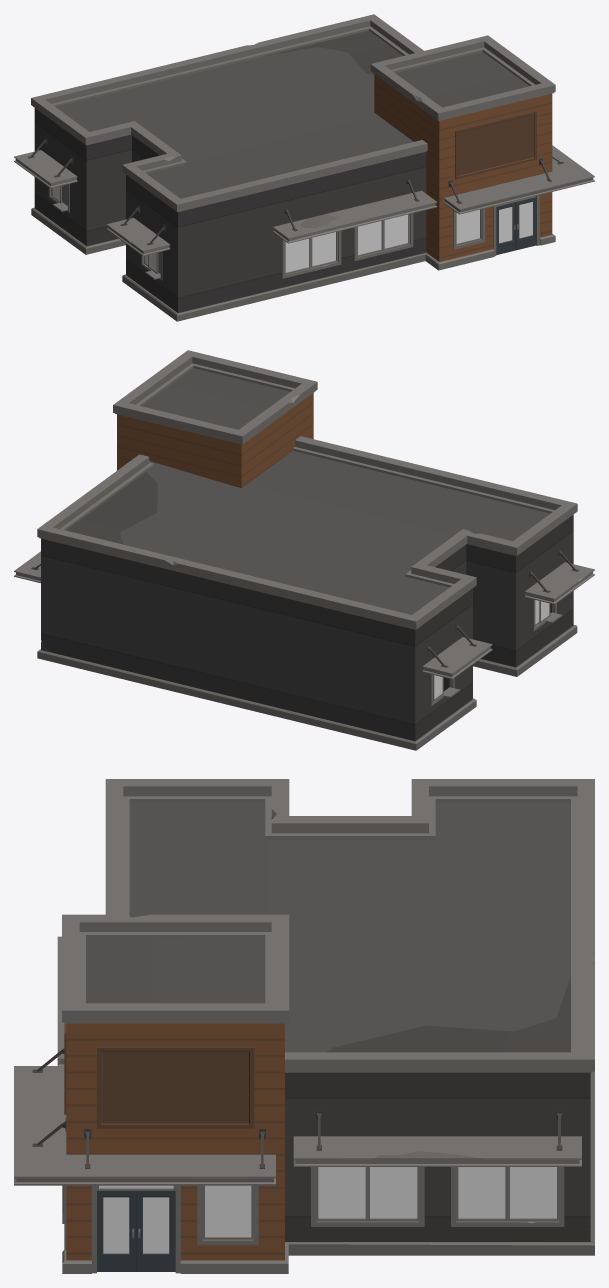
File: SM_Bldg_City_Shop_Big_02.fbx
3 views of the same model, one above another, from view 1: azimuth 30°, elevation 25°; view 2: azimuth 150°, elevation 25°; view 3: azimuth 270°, elevation 25° (orthographic). The views are drawn at different scales.
Parts seen in each view (by area): view 1: SM_Bldg_City_Shop_Big_02, SM_Bldg_City_Shop_Big_02_Glass; view 2: SM_Bldg_City_Shop_Big_02; view 3: SM_Bldg_City_Shop_Big_02, SM_Bldg_City_Shop_Big_02_Glass.
Part boxes in pixels (box(x1,y1,x2,y2)): SM_Bldg_City_Shop_Big_02: box(14, 14, 594, 321); SM_Bldg_City_Shop_Big_02_Glass: box(285, 209, 479, 272); SM_Bldg_City_Shop_Big_02: box(14, 350, 594, 750); SM_Bldg_City_Shop_Big_02: box(14, 779, 594, 1273); SM_Bldg_City_Shop_Big_02_Glass: box(99, 1167, 556, 1236).
Bounding box in the file's own units: 1840 × 665 × 1330.
